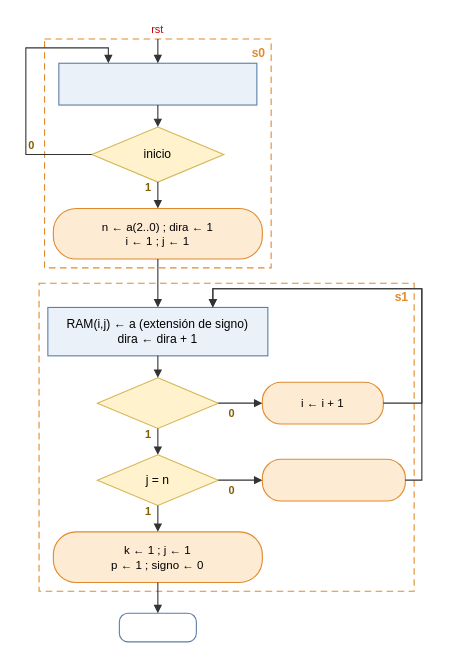
Image size: 449x661. Some labels were removed from this diagram. The shapes that lost their labels are listed below. From the top down, each one's centre as x and y in pixels, then its label:
At (157,83): "final = 0".
At (157,402): "i = n".
At (333,479): "i ← 1 ; j ← j + 1".
At (157,627): "s2".
